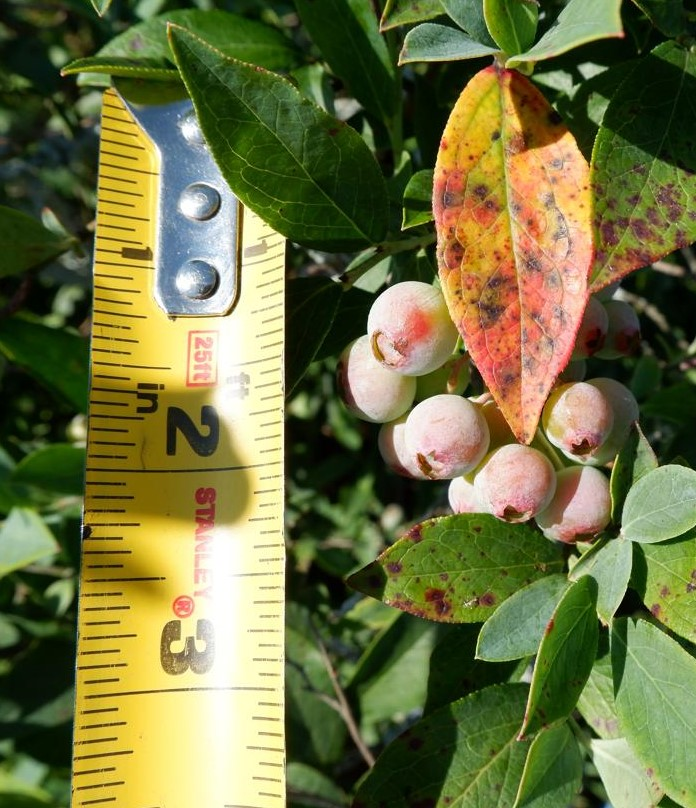Immature: (367, 280, 458, 376), (405, 394, 490, 479), (336, 333, 416, 422), (472, 445, 558, 524), (562, 379, 639, 466), (533, 466, 612, 544), (541, 383, 613, 457), (376, 409, 428, 480), (415, 353, 473, 402), (468, 393, 517, 451), (597, 301, 644, 359), (567, 295, 608, 361), (449, 469, 488, 514)
